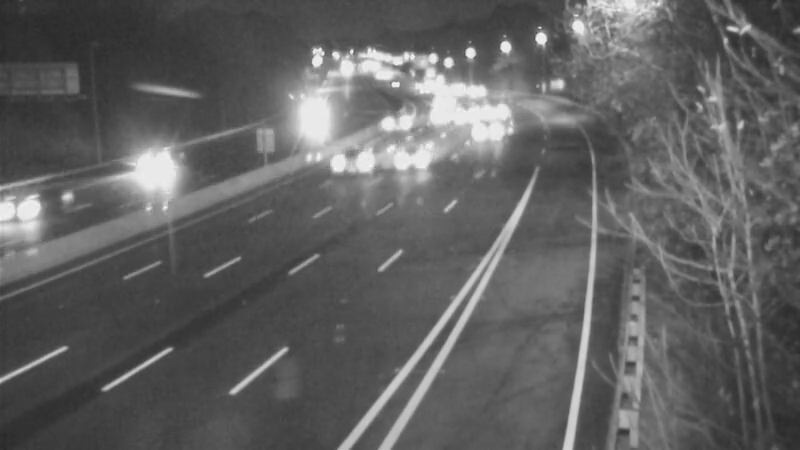vehicle: (373, 122, 453, 202), (301, 119, 381, 199), (103, 134, 183, 214), (1, 171, 67, 251), (419, 74, 469, 124), (471, 83, 521, 133), (414, 88, 464, 138), (439, 88, 489, 138), (370, 97, 420, 147), (465, 103, 515, 153), (283, 93, 333, 143)
